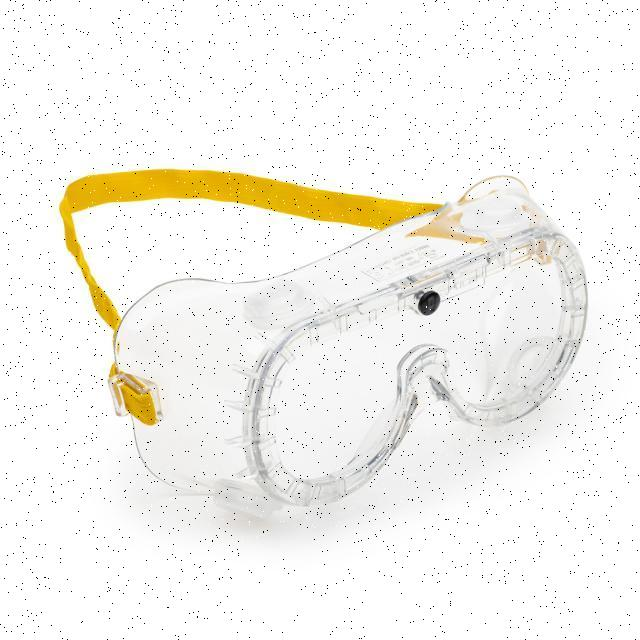goggles_on: (46, 163, 604, 528)
